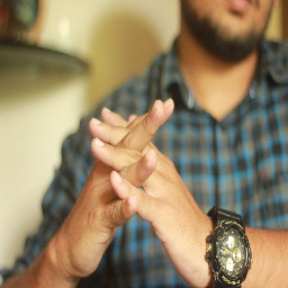W: (67, 90, 187, 238)
